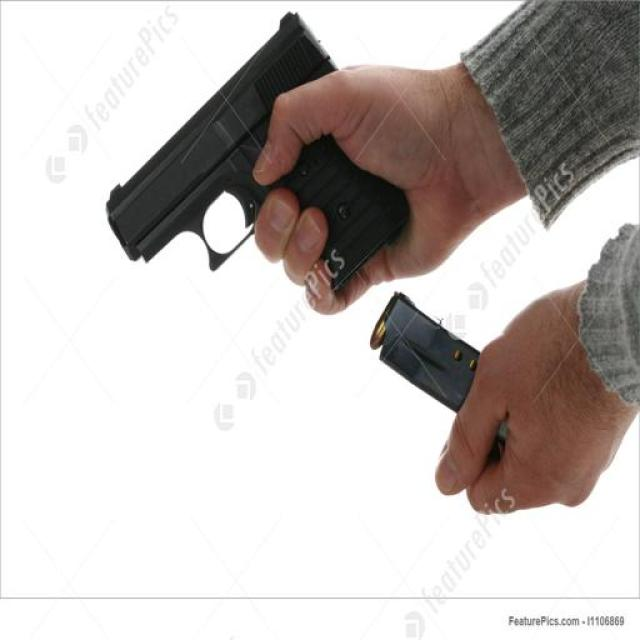pistol: (86, 9, 420, 291)
